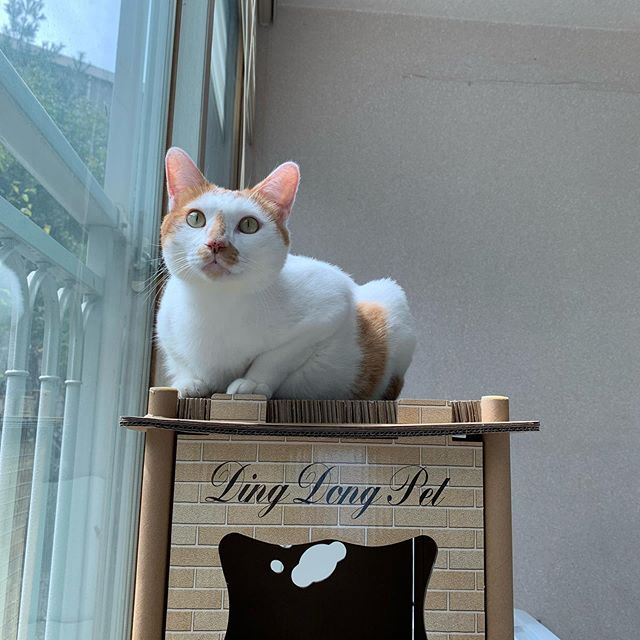cat: (158, 141, 304, 287)
